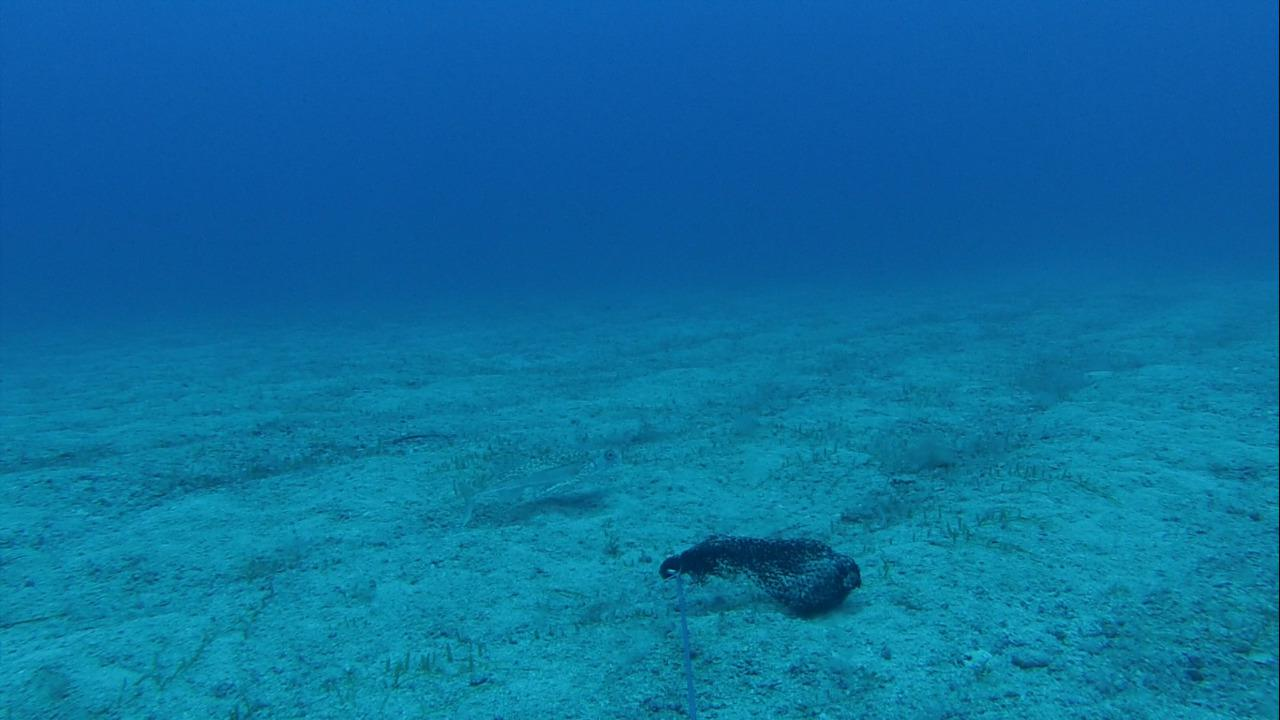dactylopterus: (455, 439, 630, 524)
